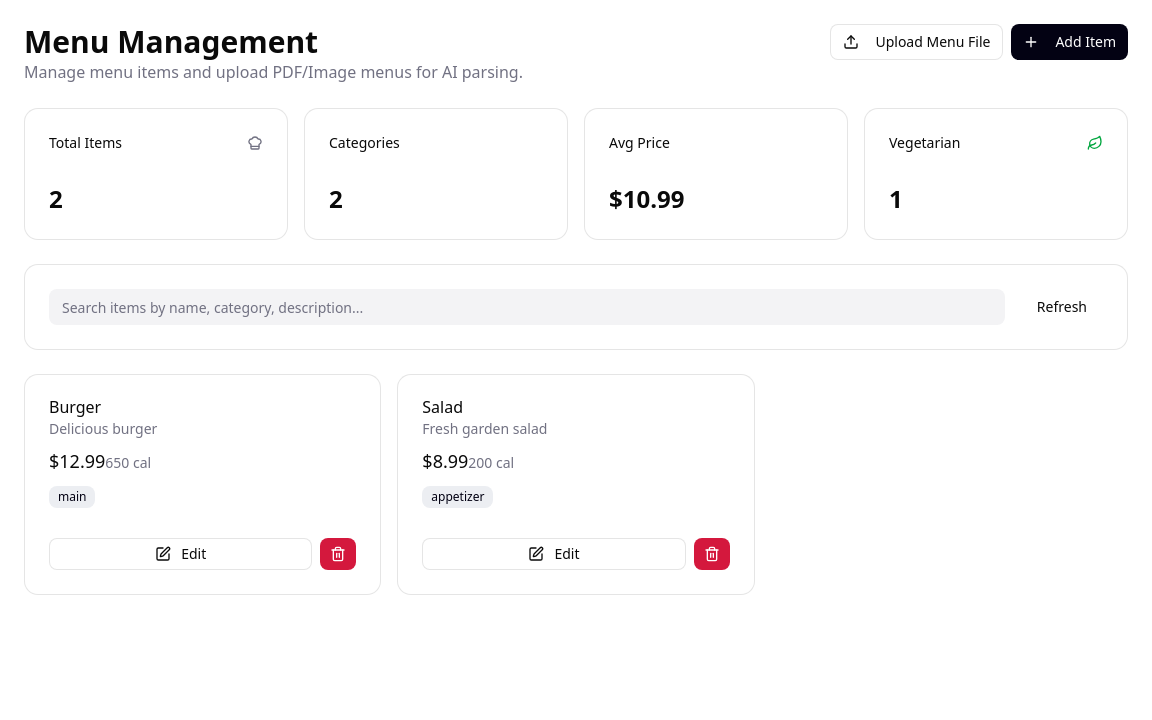
Test: MenuManagement Component › PDF Upload › opens upload dialog when Upload PDF Menu button is clicked
The width and height of the screenshot is (1152, 720).
What coordinates should you click on to do the following:
click the button "Upload Menu File"
I would click on:
 (917, 42)
Its box is [830,24,1003,60].
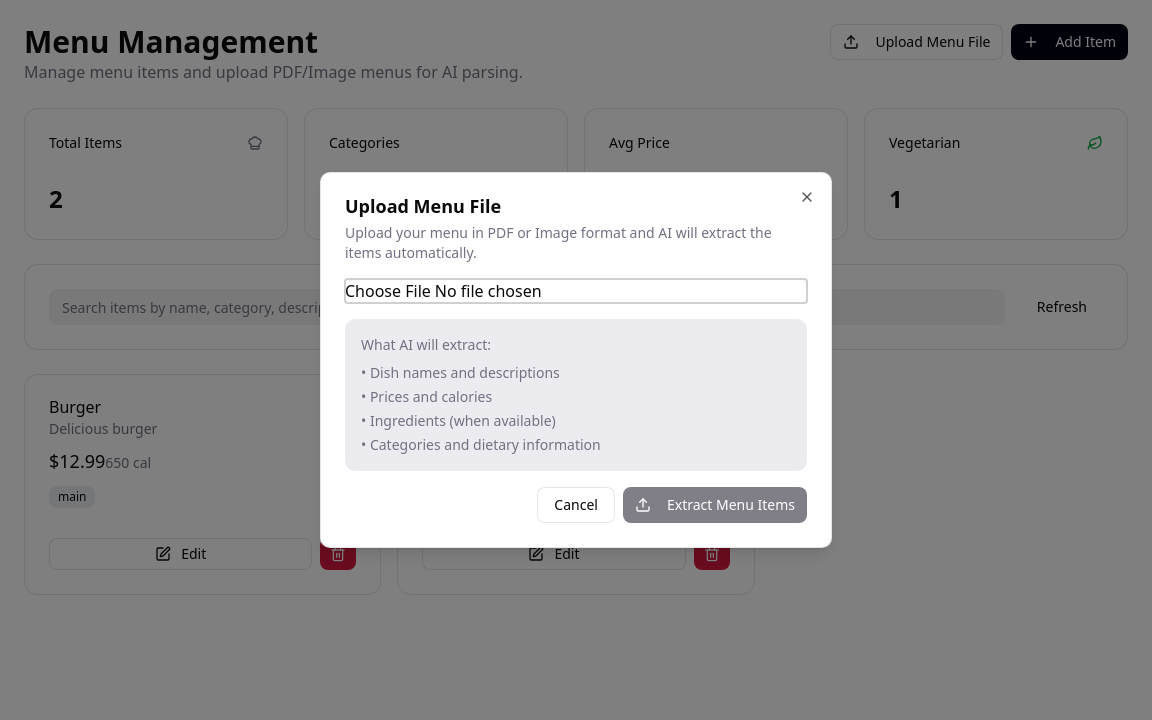
Result: the heading "Upload Menu File" is shown at [345,194,501,218]
Result: the text "Upload your menu in PDF or Image format" is shown at [345,223,772,262]
